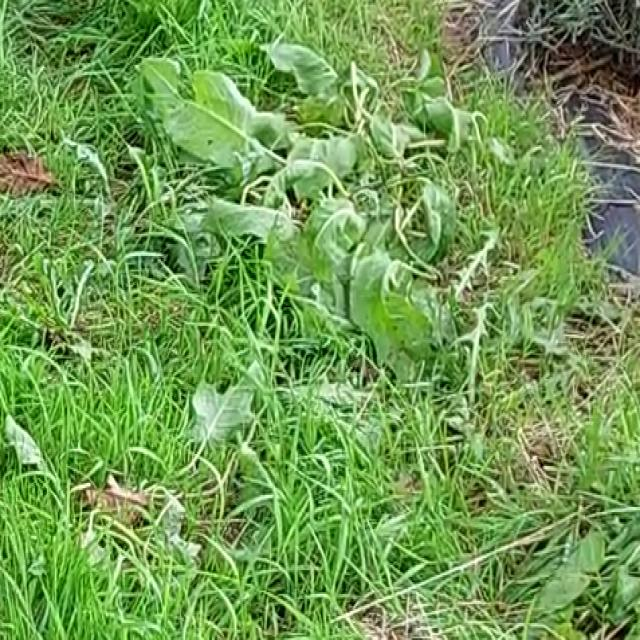organic waste: (251, 63, 500, 353), (136, 0, 382, 247), (99, 288, 244, 516)
